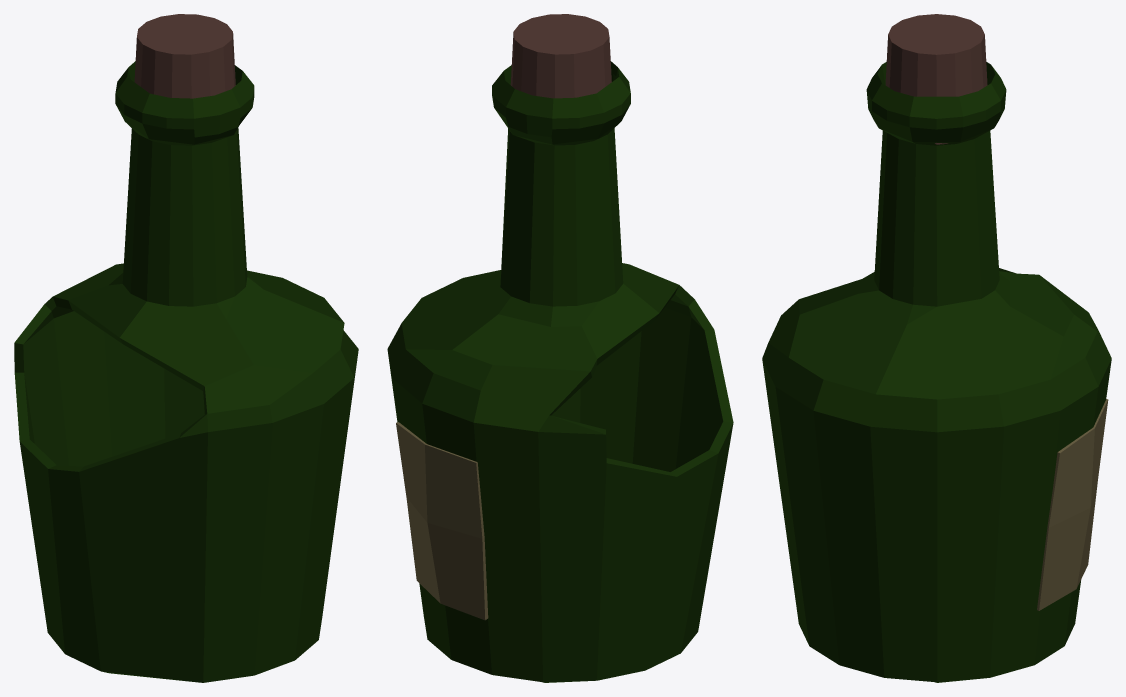
File: garrafa.fbx
3 views of the same model, side by side, from view 1: azimuth 30°, elevation 25°; view 2: azimuth 150°, elevation 25°; view 3: azimuth 270°, elevation 25° (orthographic).
Visible parts, largest first — view 1: GarrafaDeRum; view 2: GarrafaDeRum; view 3: GarrafaDeRum.
Part boxes in pixels (x1,y1,x2,y2): GarrafaDeRum: (14, 14, 358, 682); GarrafaDeRum: (387, 14, 733, 682); GarrafaDeRum: (762, 14, 1111, 682).
Size of the model in its own units: 14.99 by 28.6 by 15.21.
